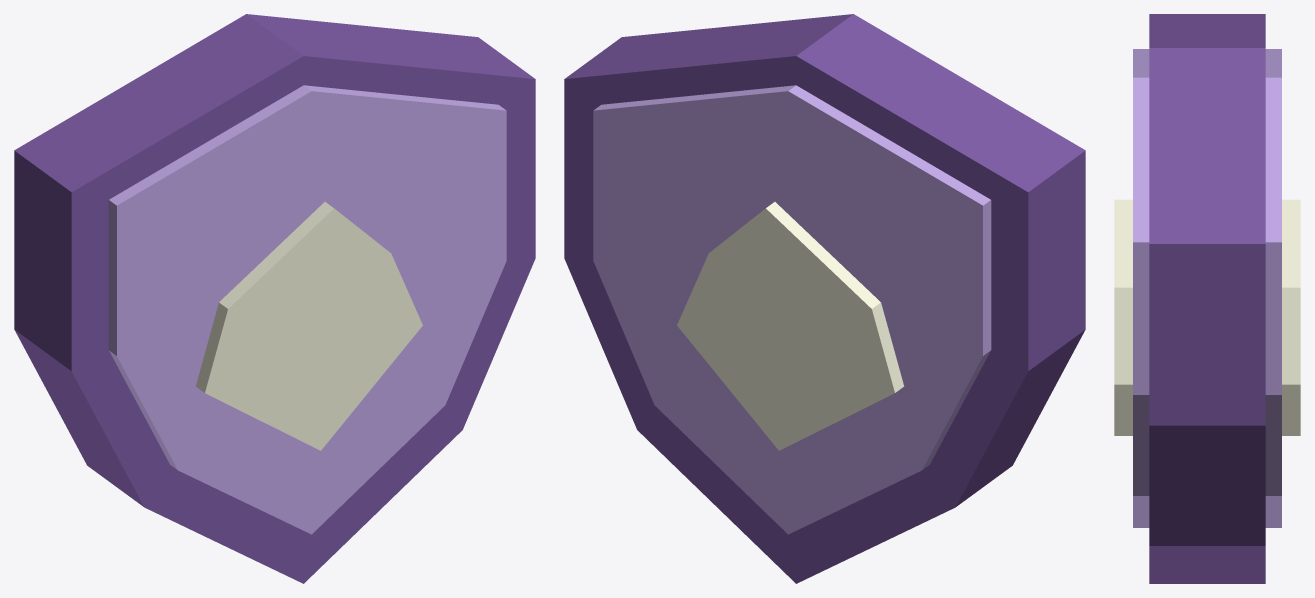
Rendered from PickupShellFilm.fbx.
3 renders of one model, left to right at view 1: azimuth 30°, elevation 25°; view 2: azimuth 150°, elevation 25°; view 3: azimuth 270°, elevation 25°, orthographic.
Parts seen in each view (by area): view 1: PickupShellFilm; view 2: PickupShellFilm; view 3: PickupShellFilm.
Part boxes in pixels (x1,y1,x2,y2): PickupShellFilm: (14, 14, 535, 583); PickupShellFilm: (564, 14, 1085, 583); PickupShellFilm: (1114, 14, 1300, 583).
Bounding box in the file's own units: 0.7 × 0.761 × 0.24.
